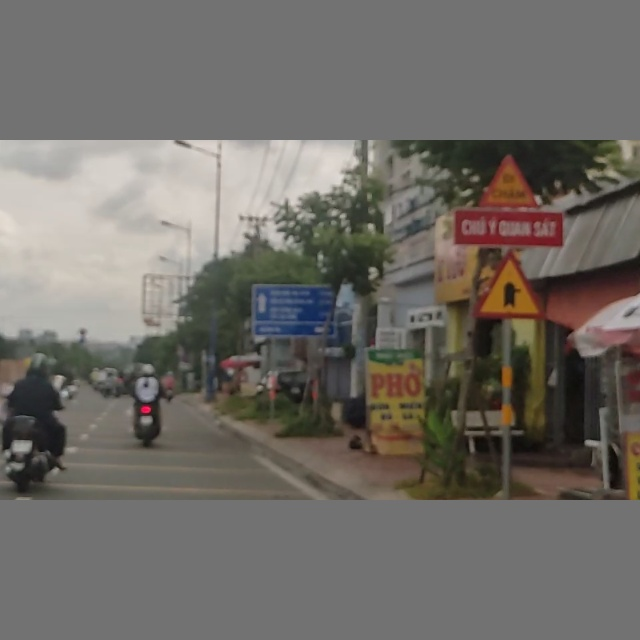W.207: (472, 249, 539, 319)
